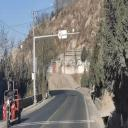speed_limit_60: (58, 30, 62, 40)
